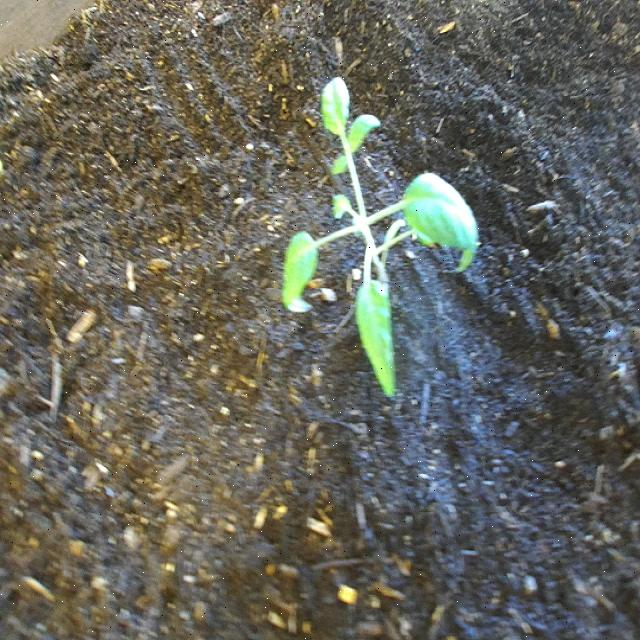Healthy: (280, 73, 481, 410)
